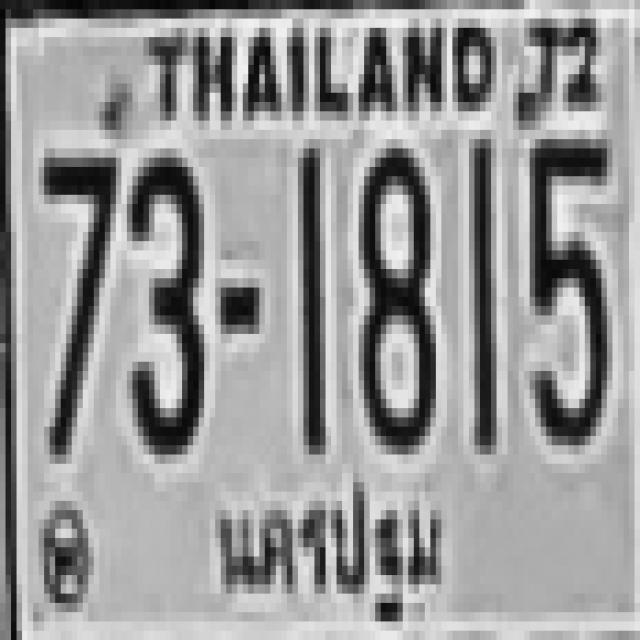1: (466, 134, 494, 450), (295, 139, 323, 445)
3: (127, 148, 199, 446)
5: (530, 130, 607, 436)
7: (41, 148, 113, 454)
8: (359, 139, 430, 445)
NakhonPathom: (204, 464, 453, 640)
